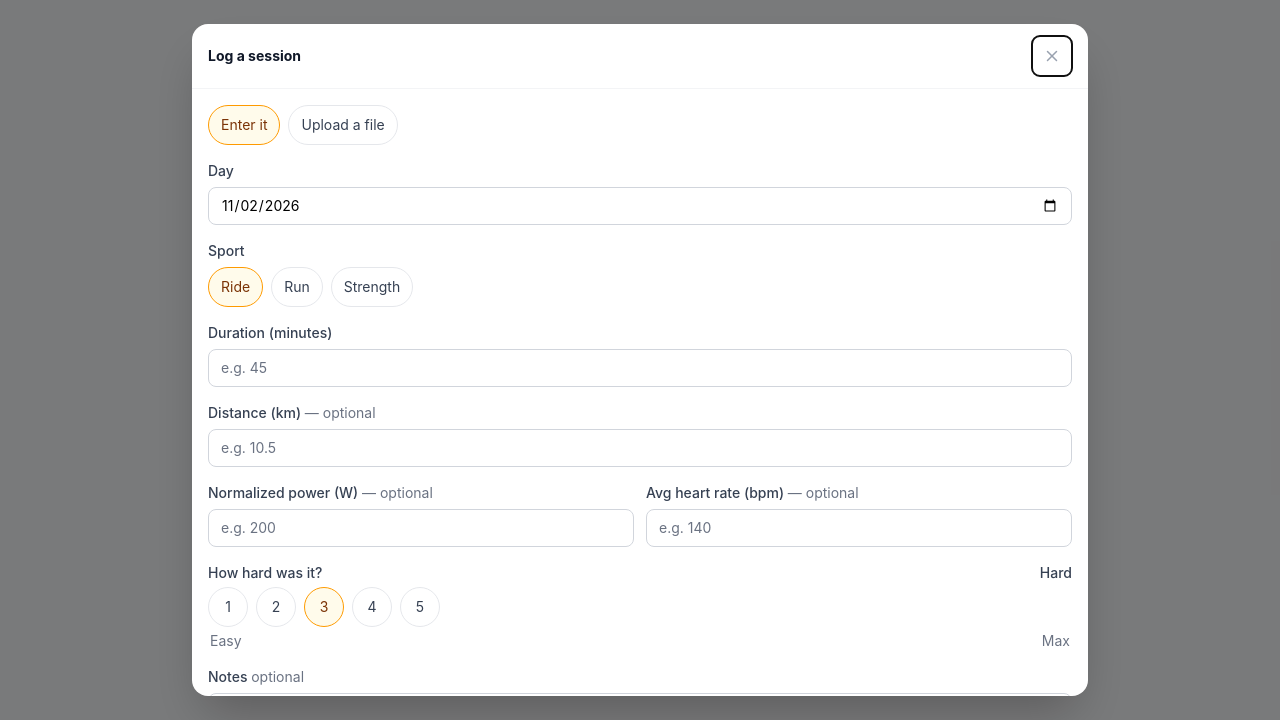
LogSessionDialog: an entry of its own (ai-trainer-ops#47) › names the effort the way a lifter does for strength
The image size is (1280, 720).
Click the button "Strength" at [372, 287], box [331, 267, 413, 307]
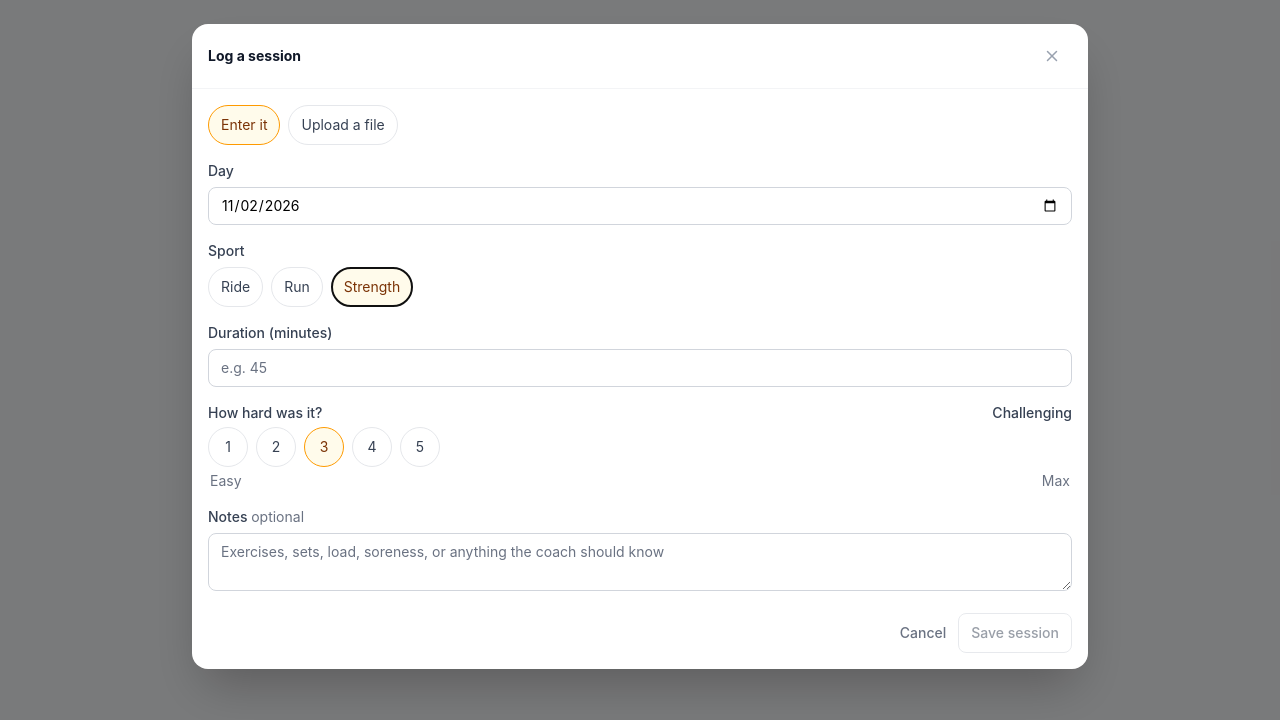
Now the button named "2 of 5 — Controlled" is shown, box [256, 427, 296, 467]
